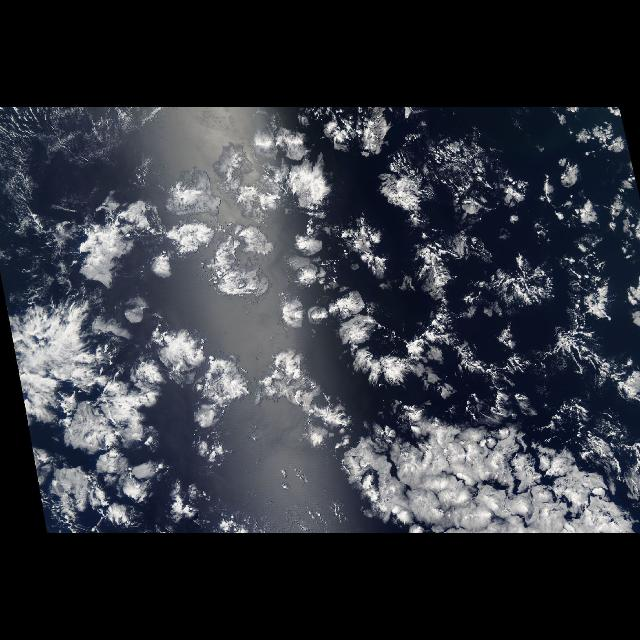Flower: (61, 111, 453, 441)
